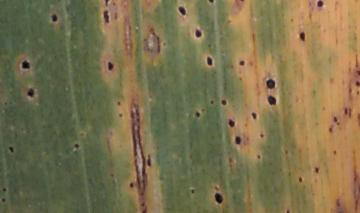tarspot: (177, 5, 188, 17), (20, 59, 31, 70), (213, 192, 223, 204), (205, 55, 214, 68), (233, 133, 242, 146), (103, 9, 110, 25), (298, 31, 307, 43), (193, 27, 202, 39), (266, 80, 277, 89), (267, 95, 276, 106), (145, 154, 152, 168), (227, 117, 235, 129), (27, 88, 35, 99), (127, 180, 135, 190), (188, 186, 196, 195), (7, 145, 14, 155), (107, 61, 114, 71), (52, 12, 58, 23), (251, 110, 257, 121), (73, 141, 80, 150), (332, 114, 339, 123), (315, 1, 324, 8), (194, 111, 202, 118), (255, 153, 262, 161), (343, 106, 349, 115), (221, 98, 227, 107), (297, 176, 304, 183), (238, 59, 245, 66), (1, 196, 7, 203), (103, 1, 110, 7), (259, 132, 265, 139), (116, 100, 122, 106), (118, 112, 124, 118), (314, 167, 320, 173), (328, 127, 334, 133), (332, 148, 337, 155), (355, 81, 360, 87), (2, 187, 7, 192), (210, 100, 215, 105), (285, 208, 289, 213), (208, 1, 214, 4)
